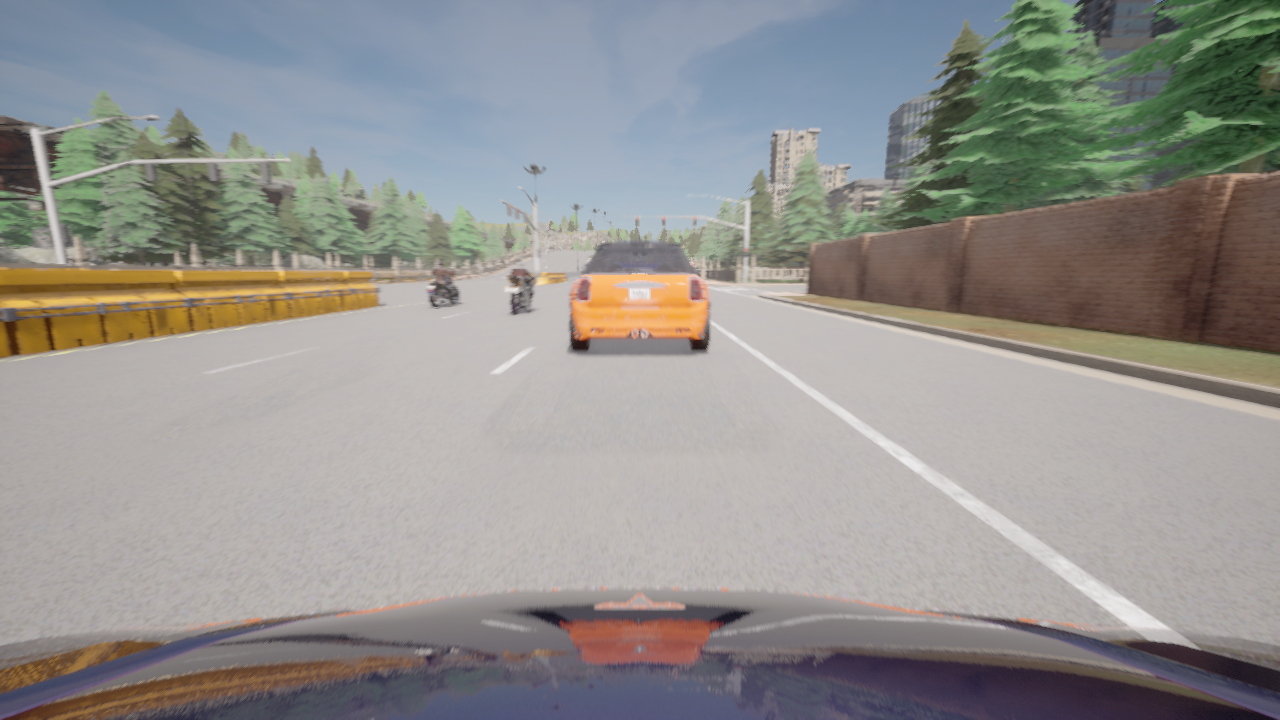cyclist: (0, 588, 1279, 719), (569, 238, 710, 351), (505, 273, 538, 315), (426, 271, 458, 307), (615, 241, 664, 242), (583, 263, 588, 269)
pedestrian: (125, 260, 133, 265), (69, 258, 75, 264), (208, 261, 213, 266)
